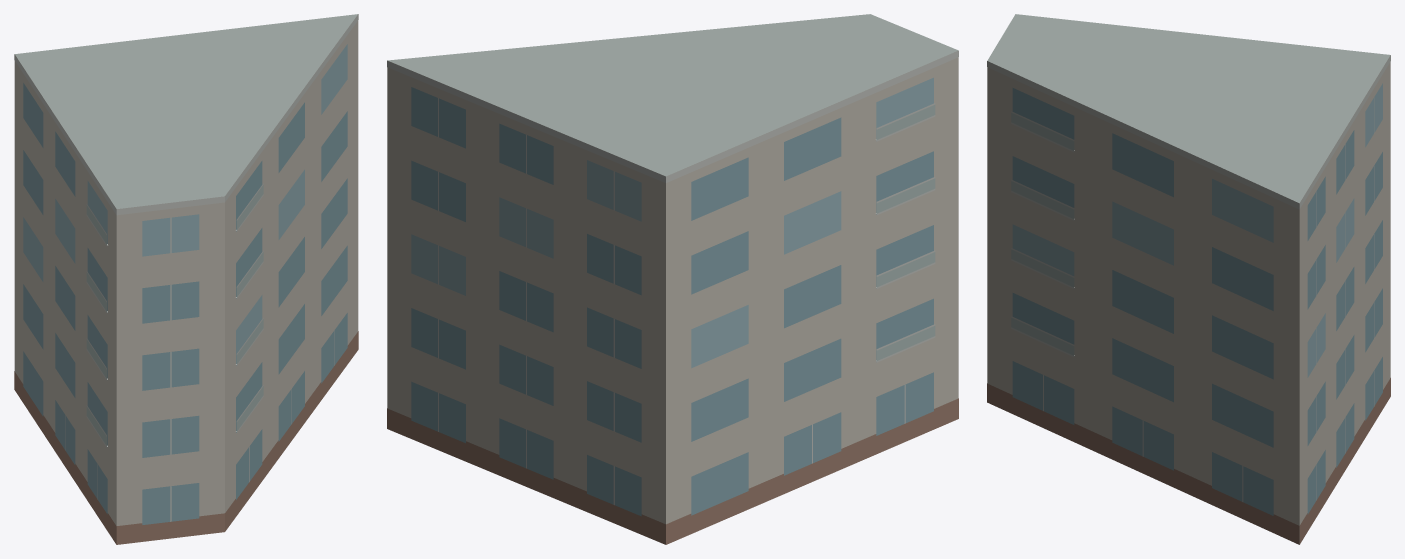
File: survey-upis-32880802.glb
The picture shows the model from 3 angles, left to right: view 1: azimuth 30°, elevation 25°; view 2: azimuth 150°, elevation 25°; view 3: azimuth 270°, elevation 25°; orthographic projection. The views are drawn at different scales.
Visible parts, largest first — view 1: survey-upis-32880802.tmp; view 2: survey-upis-32880802.tmp; view 3: survey-upis-32880802.tmp.
Boxes of the visible parts, x1,y1,x2,y2 form: survey-upis-32880802.tmp: [14, 14, 358, 544]; survey-upis-32880802.tmp: [387, 14, 958, 544]; survey-upis-32880802.tmp: [987, 14, 1390, 544].
Size of the model in its own units: 15.93 by 13.4 by 14.36.
